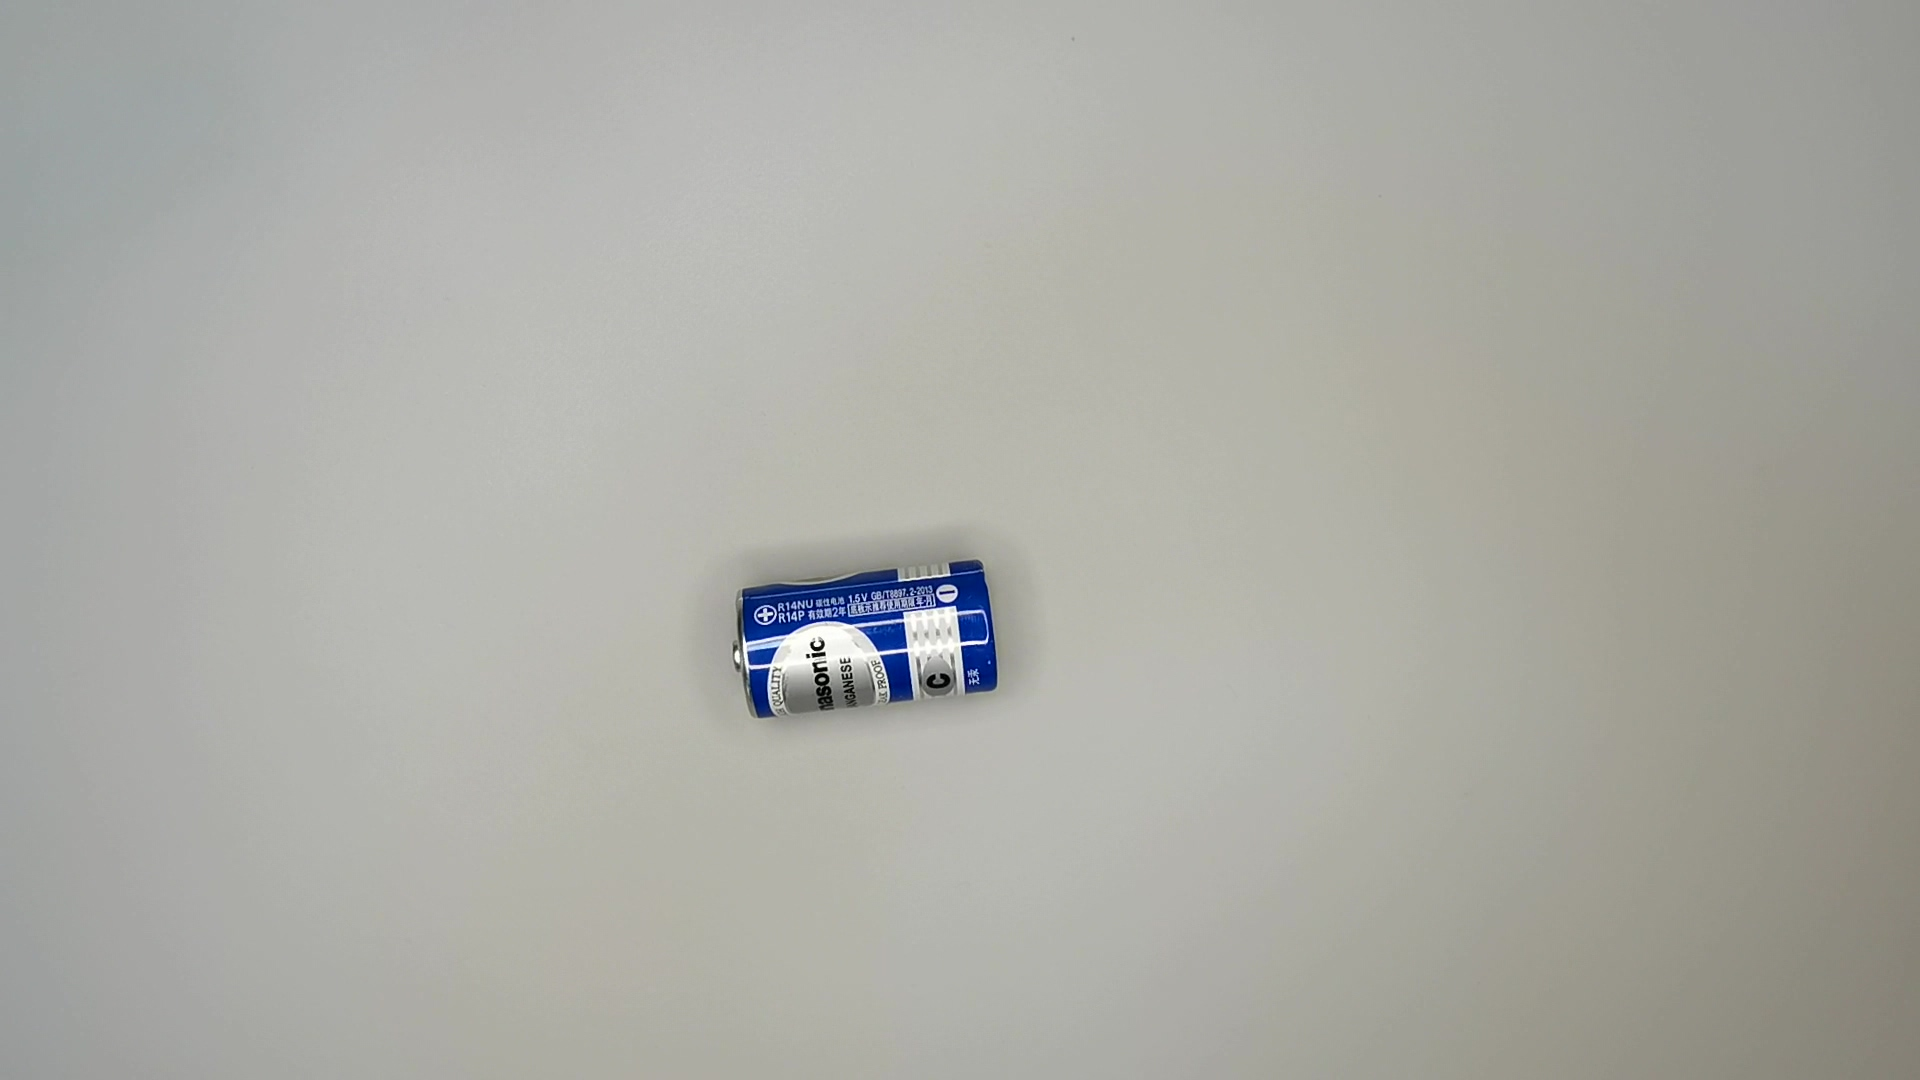battery: (723, 550, 1006, 723)
